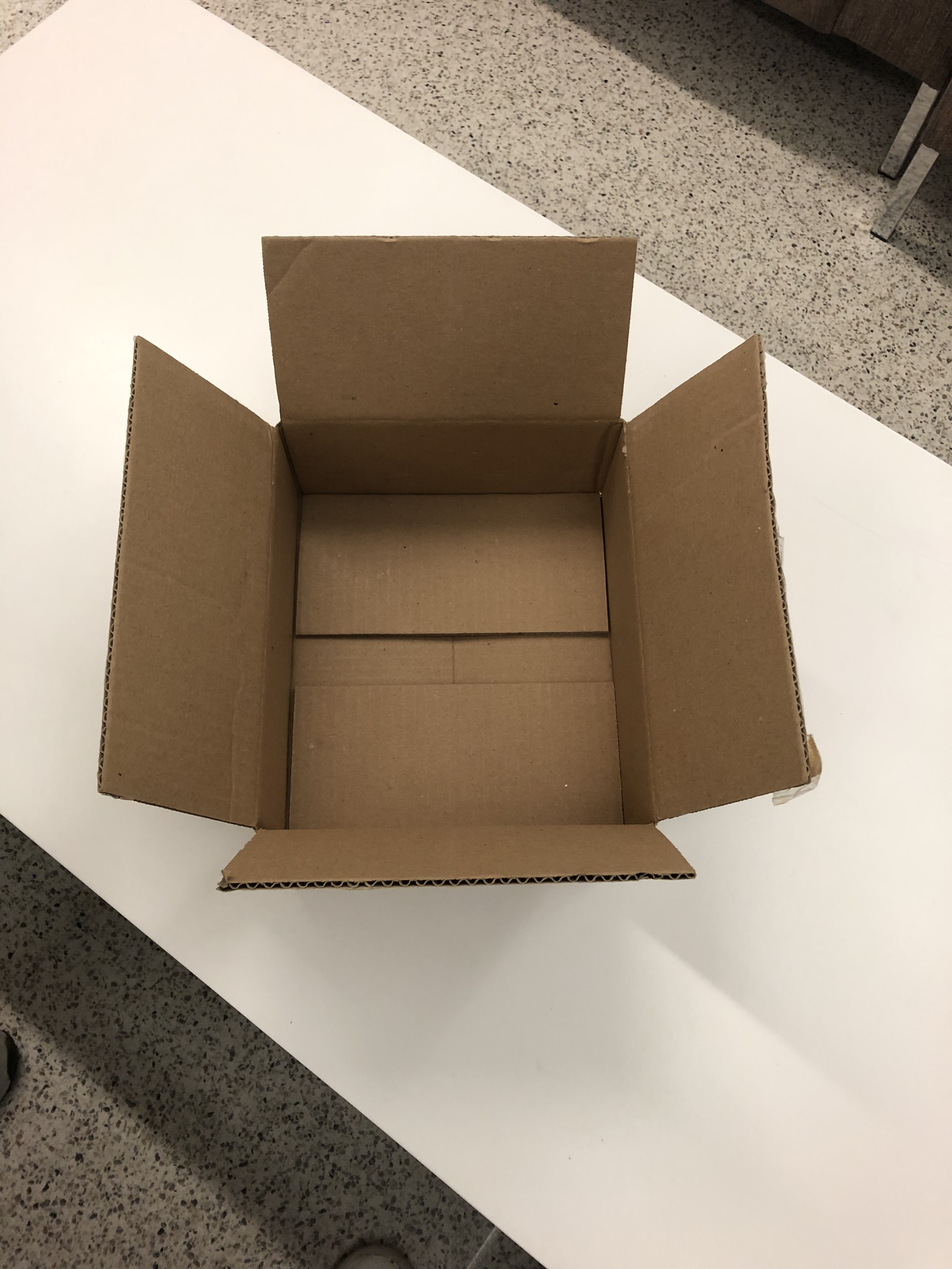box: (93, 229, 811, 891)
crushed: (89, 226, 820, 891)
